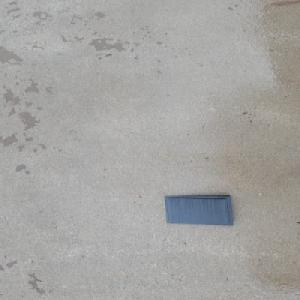PlasticPart: (162, 193, 234, 225)
